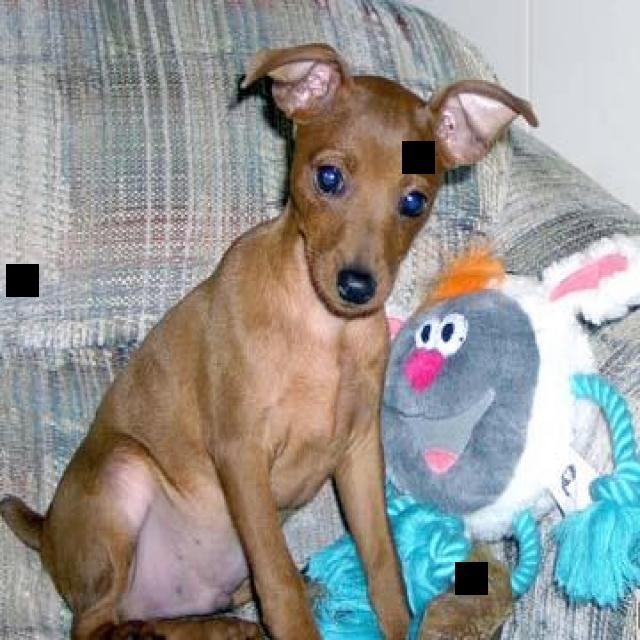puppy-dog: (0, 38, 541, 640)
